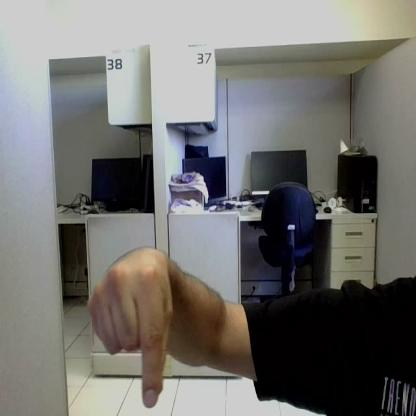Q: (88, 264, 166, 408)
